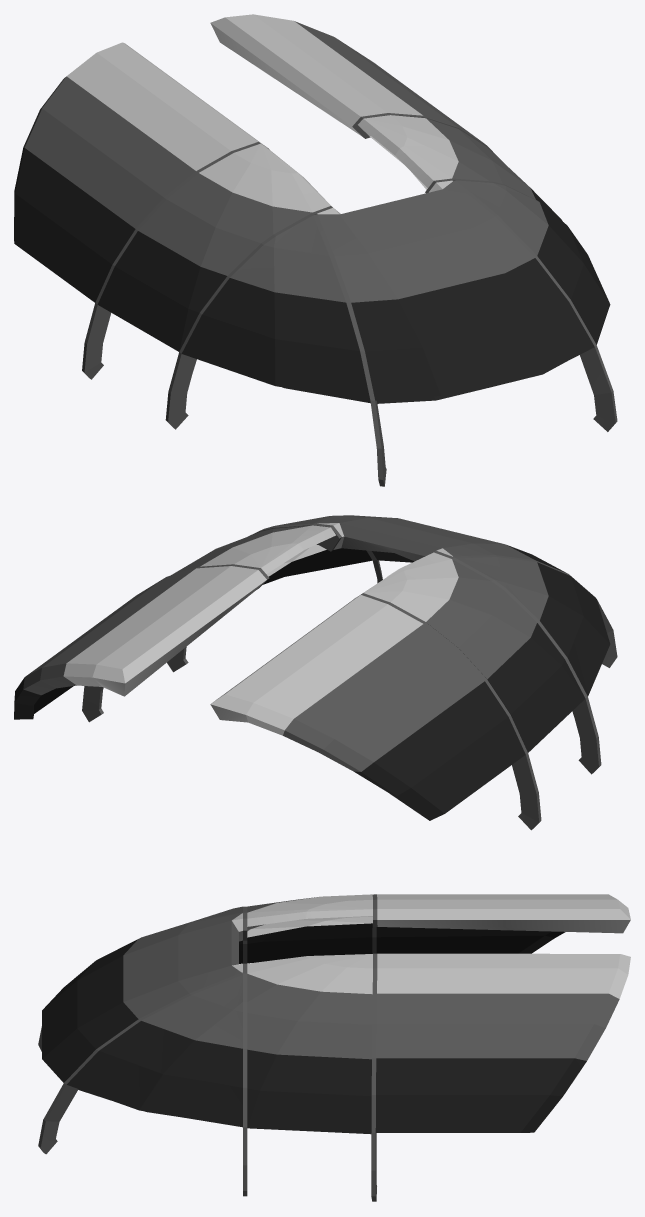
The model's file is cat-330_g.dae.
3 views of the same model, one above another, from view 1: azimuth 30°, elevation 25°; view 2: azimuth 150°, elevation 25°; view 3: azimuth 270°, elevation 25° (orthographic). The views are drawn at different scales.
Visible parts, largest first — view 1: cat-330_g; view 2: cat-330_g; view 3: cat-330_g.
Boxes of the visible parts, box(x1,y1,x2,y2) form: cat-330_g: box(14, 14, 617, 486); cat-330_g: box(14, 515, 617, 830); cat-330_g: box(38, 894, 630, 1201).
Size of the model in its own units: 7.77 by 10.15 by 3.19.
